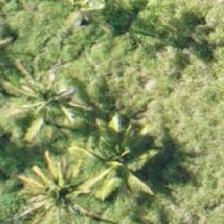coconut_tree: (67, 112, 157, 202), (0, 54, 84, 144), (20, 147, 110, 223)
